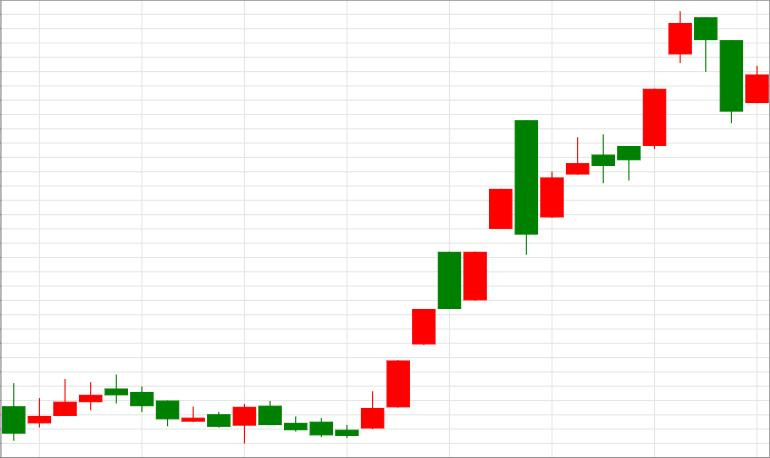bearish_engulfing_fall: (335, 120, 538, 438)
